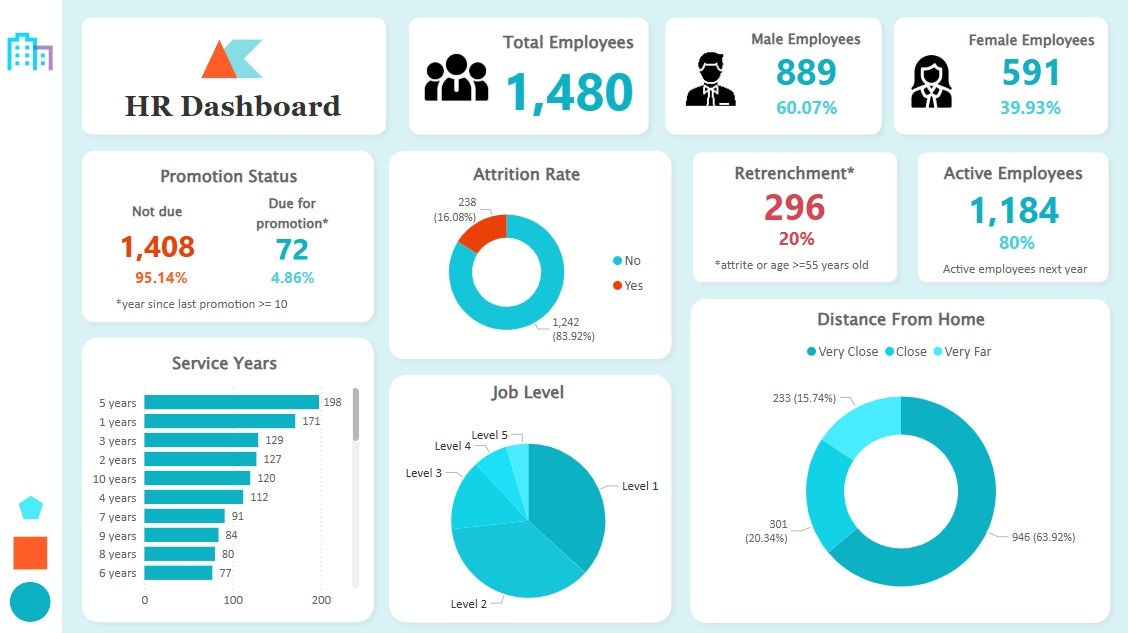

The dashboard page shown, as its layout file describes it:
{"tool":"powerbi","page":{"name":"Dashboard","canvas":[1280,720],"ordinal":0},"visuals":[{"type":"shape","box":[0,0,74.8,719],"z":0},{"type":"shape","box":[86.9,12.4,361.4,150.3],"z":1000},{"type":"shape","box":[456.6,12.4,288.3,150.3],"z":2000},{"type":"shape","box":[1002.8,12.4,259.3,150.3],"z":3000},{"type":"shape","box":[744.8,12.4,262.1,150.3],"z":4000},{"type":"shape","box":[434.2,416.1,336.5,297.4],"z":5000},{"type":"shape","box":[434.2,163.4,336.5,252.7],"z":6000},{"type":"shape","box":[776.7,164.7,248.5,164.7],"z":7000},{"type":"shape","box":[1029,164.7,233.2,164.7],"z":8000},{"type":"shape","box":[773.5,329.5,491.5,383.9],"z":9000},{"type":"textbox","box":[125.5,98.3,282.8,48.3],"z":10000},{"type":"shape","box":[245.5,46.2,56.6,44.1],"z":11000},{"type":"shape","box":[230.3,46.2,41.4,44.1],"z":12000},{"type":"card","title":"Total Employees","fields":{"Values":["All Measurements.Total Employee"]},"box":[550.3,35.9,189,104.8],"z":13000},{"type":"card","title":"Male Employees","fields":{"Values":["All Measurements.Male"]},"box":[822.1,33.1,180.7,71.7],"z":14000},{"type":"card","title":"Female Employees","fields":{"Values":["All Measurements.Female"]},"box":[1078.6,35.9,176.6,69],"z":15000},{"type":"card","title":"Male Employee","fields":{"Values":["All Measurements.%male"]},"box":[855.2,102.1,117.2,46.9],"z":16000},{"type":"card","title":"Male Employee","fields":{"Values":["All Measurements.%female"]},"box":[1107.6,102.1,117.2,46.9],"z":17000},{"type":"image","box":[475.9,46.9,85.5,85.5],"z":18000},{"type":"image","box":[765.5,52.4,78.6,78.6],"z":19000},{"type":"image","box":[1019.3,56.6,69,74.5],"z":20000},{"type":"shape","box":[86.9,373.8,347.6,339.3],"z":21000},{"type":"barChart","title":"Service Years","fields":{"Category":["HR_Analytics.ServiceYear"],"Y":["All Measurements.Total Employee"]},"box":[102.1,397.2,313.1,299.3],"z":22000},{"type":"shape","box":[86.9,162.8,347.6,211],"z":23000},{"type":"card","title":"Not due","fields":{"Values":["All Measurements.Not due"]},"box":[110.3,229,143.4,77.2],"z":24000},{"type":"card","title":"Male Employee","fields":{"Values":["All Measurements.%not due"]},"box":[128.3,292.4,117.2,46.9],"z":25000},{"type":"card","title":"Due for promotion*","fields":{"Values":["All Measurements.Due Promotion"]},"box":[267.6,220.7,132.4,78.6],"z":26000},{"type":"card","title":"Male Employee","fields":{"Values":["All Measurements.%due promotion"]},"box":[275.9,292.4,117.2,46.9],"z":27000},{"type":"textbox","box":[121.4,182.1,282.8,48.3],"z":28000},{"type":"textbox","box":[129.7,329.7,289.7,35.9],"z":29000},{"type":"pieChart","title":"Job Level","fields":{"Category":["HR_Analytics.LevelJob"],"Y":["All Measurements.Total Employee"]},"box":[446.8,430,307.2,290.4],"z":30000},{"type":"donutChart","title":"Attrition Rate","fields":{"Category":["HR_Analytics.Attrition"],"Y":["All Measurements.Total Employee"]},"box":[452.4,184.3,291.8,220.6],"z":31000},{"type":"card","title":"Retrenchment*","fields":{"Values":["All Measurements.Retrench"]},"box":[809.8,182.9,180.1,72.6],"z":32000},{"type":"card","title":"Active Employees","fields":{"Values":["All Measurements.On services"]},"box":[1056.9,182.9,180.1,79.6],"z":33000},{"type":"card","title":"Male Employee","fields":{"Values":["All Measurements.%on services"]},"box":[1091.8,254.1,117.3,47.5],"z":34000},{"type":"card","title":"Male Employee","fields":{"Values":["All Measurements.%retrenchment"]},"box":[843.3,249.9,117.3,47.5],"z":35000},{"type":"textbox","box":[804.2,286.2,215,36.3],"z":36000},{"type":"textbox","box":[1042.9,290.4,212.2,36.3],"z":37000},{"type":"donutChart","title":"Distance From Home","fields":{"Category":["HR_Analytics.Distance From Home"],"Y":["All Measurements.Total Employee"]},"box":[786.6,347.5,468.1,355.9],"z":38000},{"type":"shape","box":[15.4,657.7,46.2,45.4],"z":39000},{"type":"image","box":[2.8,26.8,71.8,64.8],"z":40000},{"type":"shape","box":[20,607,38,37],"z":41000},{"type":"shape","box":[25,561,28,27],"z":41001}]}

Visuals, with their boxes in screenshot pixels (x1, y1, x2, y2), scaled from the page's 1280x720 canvas onto the 1128x633 screenshot:
shape: (0, 0, 66, 632)
shape: (77, 11, 395, 143)
shape: (402, 11, 656, 143)
shape: (884, 11, 1112, 143)
shape: (656, 11, 887, 143)
shape: (383, 366, 679, 627)
shape: (383, 144, 679, 366)
shape: (684, 145, 903, 290)
shape: (907, 145, 1112, 290)
shape: (682, 290, 1115, 627)
textbox: (111, 86, 360, 129)
shape: (216, 41, 266, 79)
shape: (203, 41, 239, 79)
"Total Employees" card: (485, 32, 652, 124)
"Male Employees" card: (724, 29, 884, 92)
"Female Employees" card: (951, 32, 1106, 92)
"Male Employee" card: (754, 90, 857, 131)
"Male Employee" card: (976, 90, 1079, 131)
image: (419, 41, 495, 116)
image: (675, 46, 744, 115)
image: (898, 50, 959, 115)
shape: (77, 329, 383, 627)
"Service Years" barChart: (90, 349, 366, 612)
shape: (77, 143, 383, 329)
"Not due" card: (97, 201, 224, 269)
"Male Employee" card: (113, 257, 216, 298)
"Due for promotion*" card: (236, 194, 352, 263)
"Male Employee" card: (243, 257, 346, 298)
textbox: (107, 160, 356, 203)
textbox: (114, 290, 370, 321)
"Job Level" pieChart: (394, 378, 664, 632)
"Attrition Rate" donutChart: (399, 162, 656, 356)
"Retrenchment*" card: (714, 161, 872, 225)
"Active Employees" card: (931, 161, 1090, 231)
"Male Employee" card: (962, 223, 1066, 265)
"Male Employee" card: (743, 220, 847, 261)
textbox: (709, 252, 898, 284)
textbox: (919, 255, 1106, 287)
"Distance From Home" donutChart: (693, 306, 1106, 618)
shape: (14, 578, 54, 618)
image: (2, 24, 66, 81)
shape: (18, 534, 51, 566)
shape: (22, 493, 47, 517)
